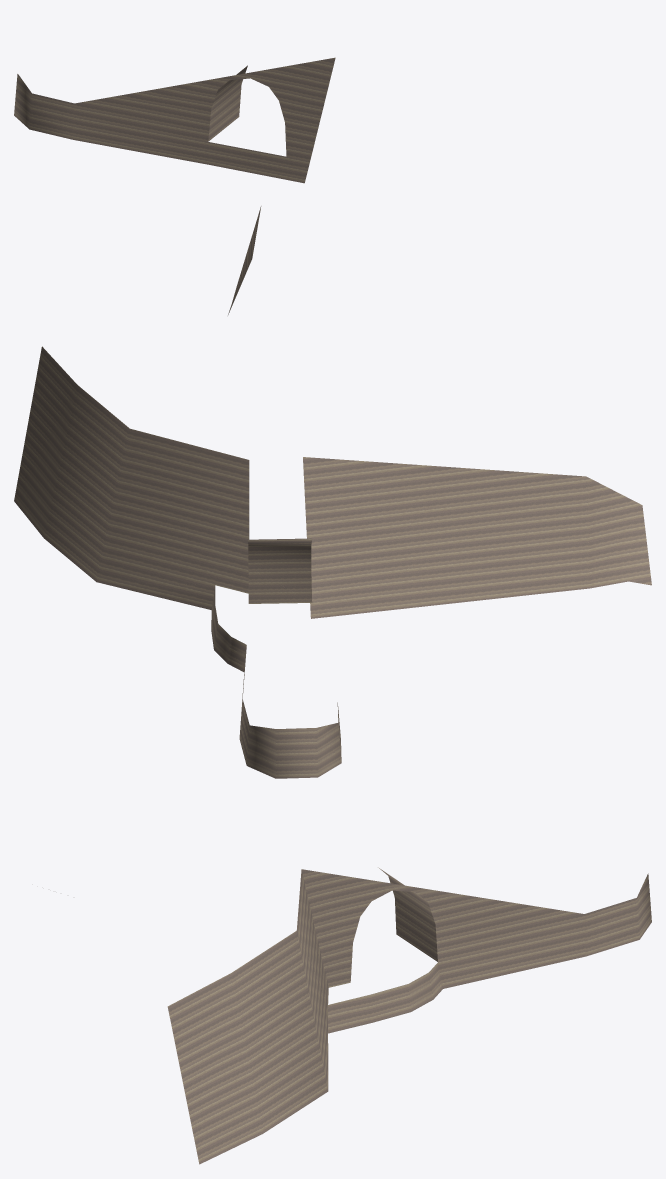
File: kd_connection_world-inner_surface_10_7.glb
The picture shows the model from 3 angles, top to bottom: view 1: azimuth 30°, elevation 25°; view 2: azimuth 150°, elevation 25°; view 3: azimuth 270°, elevation 25°; orthographic projection. The views are drawn at different scales.
Visible parts, largest first — view 1: kd_connection_world-inner_surface_10_7; view 2: kd_connection_world-inner_surface_10_7; view 3: kd_connection_world-inner_surface_10_7.
Part boxes in pixels (left/top/right/bottom): kd_connection_world-inner_surface_10_7: left=14, top=57, right=335, bottom=314; kd_connection_world-inner_surface_10_7: left=14, top=346, right=651, bottom=778; kd_connection_world-inner_surface_10_7: left=167, top=867, right=651, bottom=1164.
Size of the model in its own units: 142 by 37.39 by 136.
Materials: 1 (1 with a texture image).
